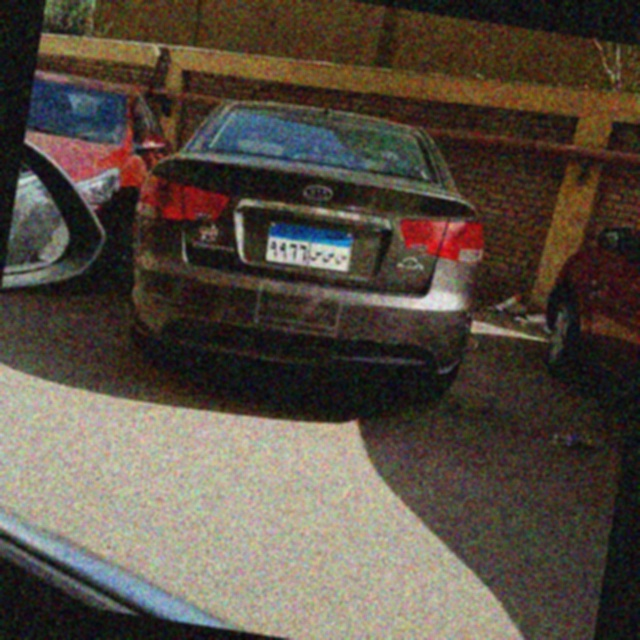License Plate: (260, 216, 359, 276)
